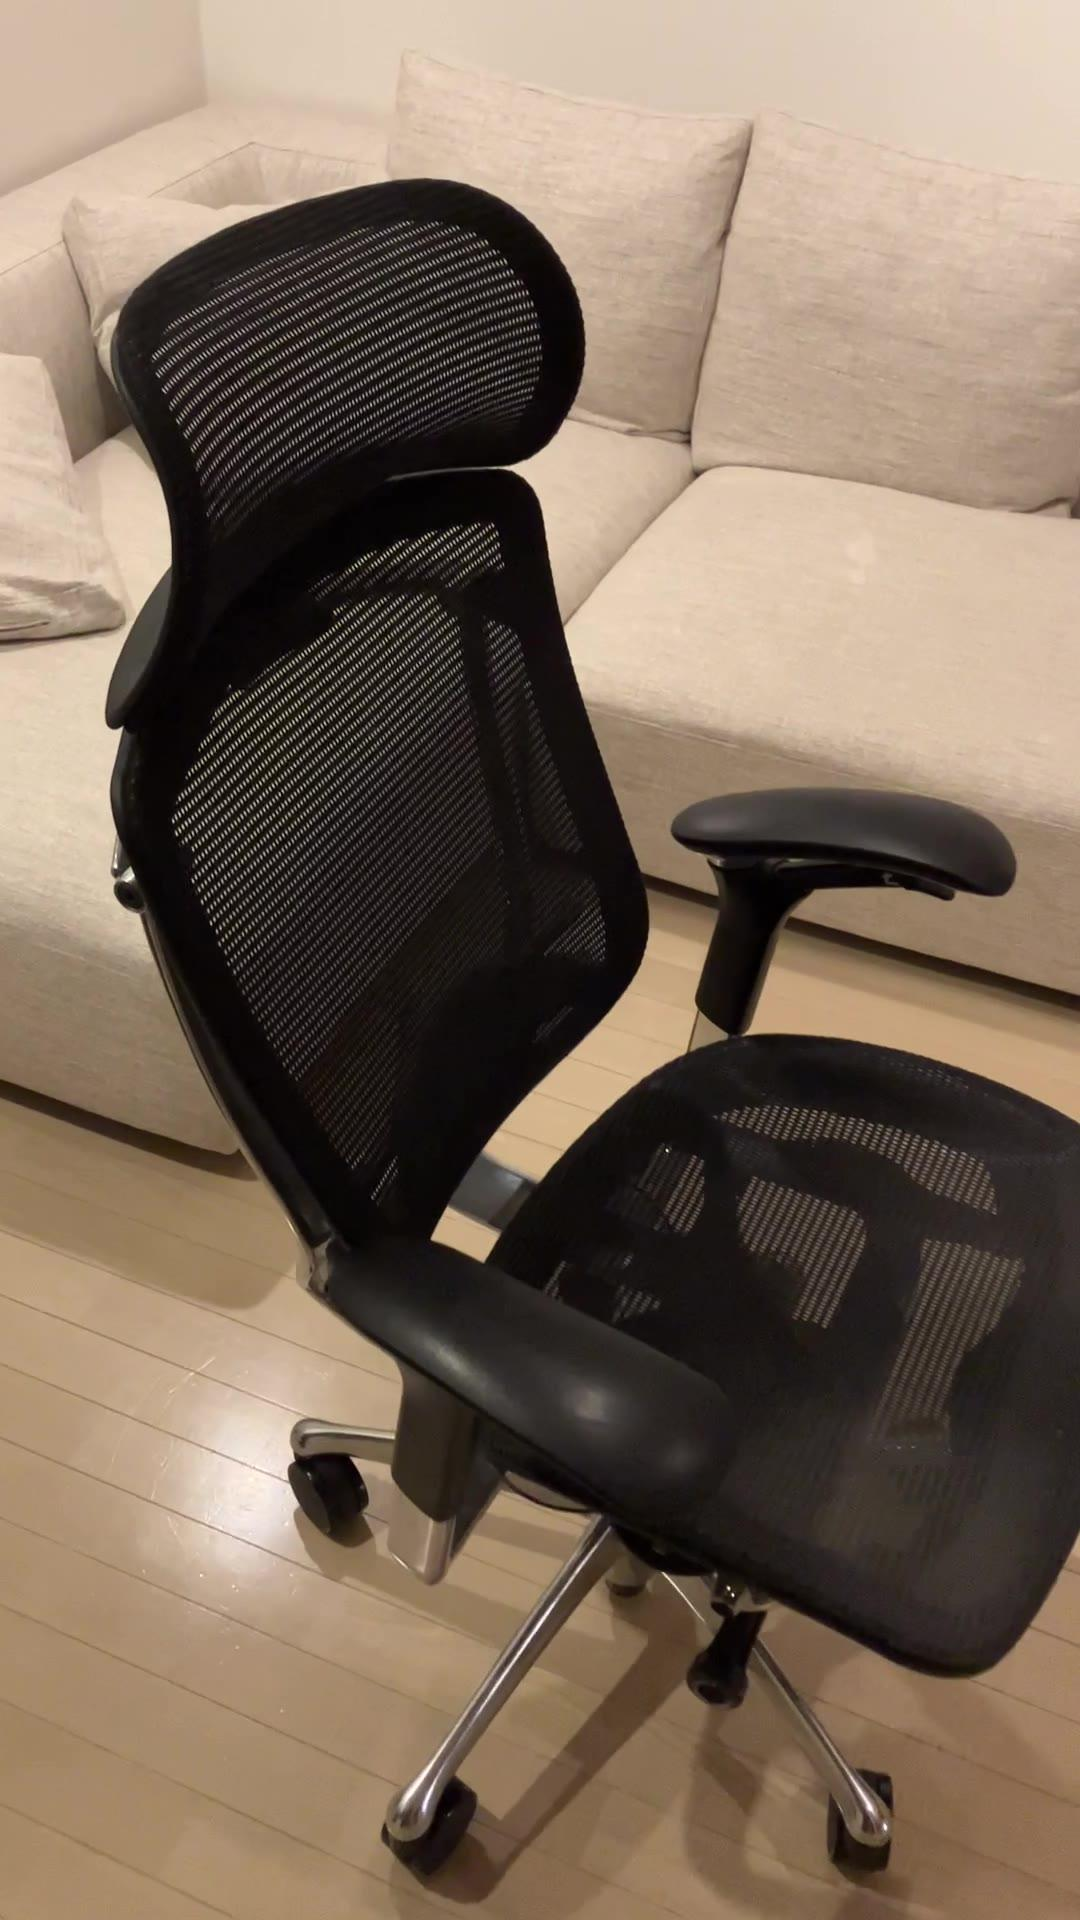okamura-contessa: (92, 169, 1080, 1888)
